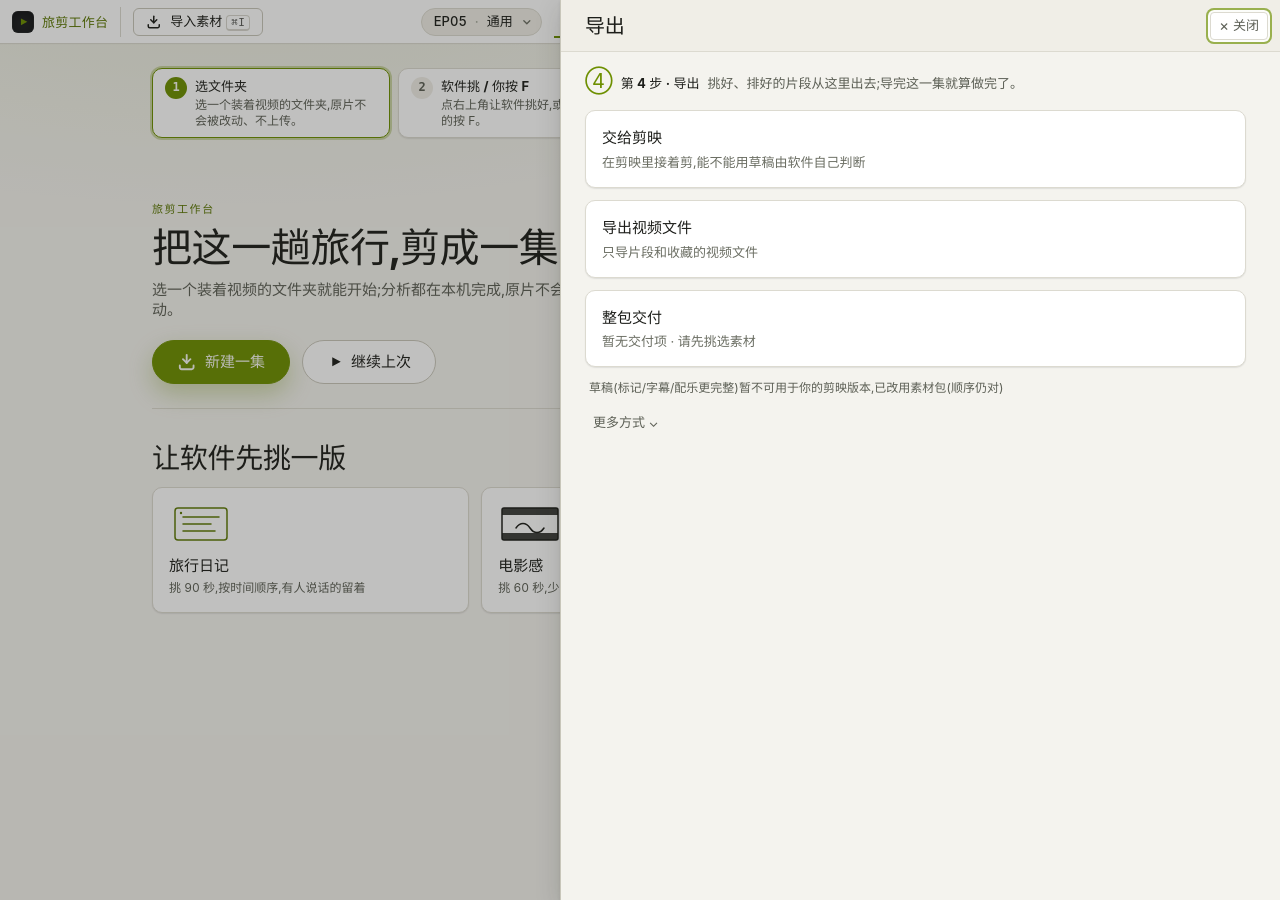
零素材整包首屏与详情明确暂无交付项且保持禁用
What coordinates should you click on to do the following:
click the button "整包交付 暂无交付项 · 请先挑选素材"
I would click on:
 (632, 317)
Its box is [585,290,1246,367].
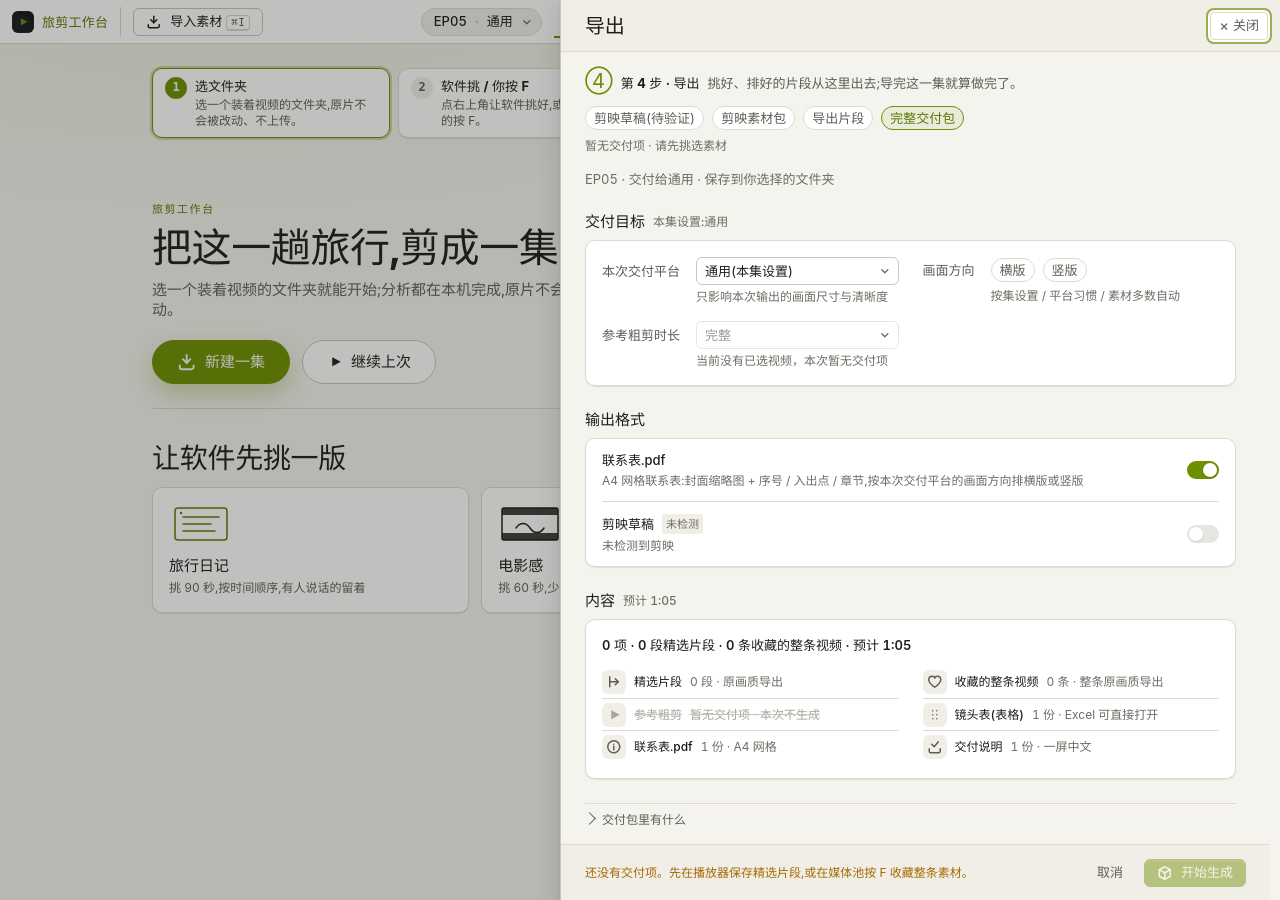
Check: the text "暂无交付项 · 请先挑选素材" is shown, box [585,138,727,153]
Check: the text "当前没有已选视频，本次暂无交付项" is shown, box [696,353,898,369]
Check: the button "开始生成" is disabled, box [1144,858,1246,886]
